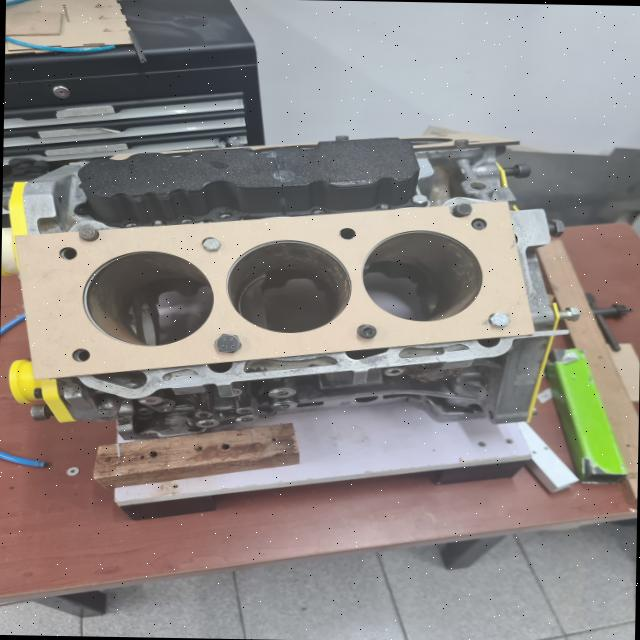tor_v1: (16, 202, 533, 376)
